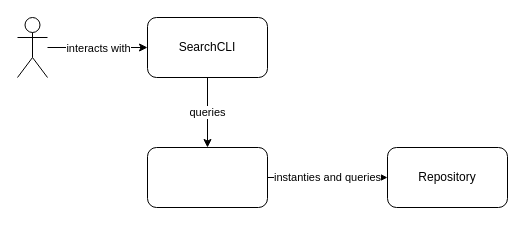
Some shapes in this 525 by 225 pixel diagram are drawn without their labels. The centre of each missing label's shape, as x and y in pixels:
Store: pixel 207 177
user: pixel 32 47
